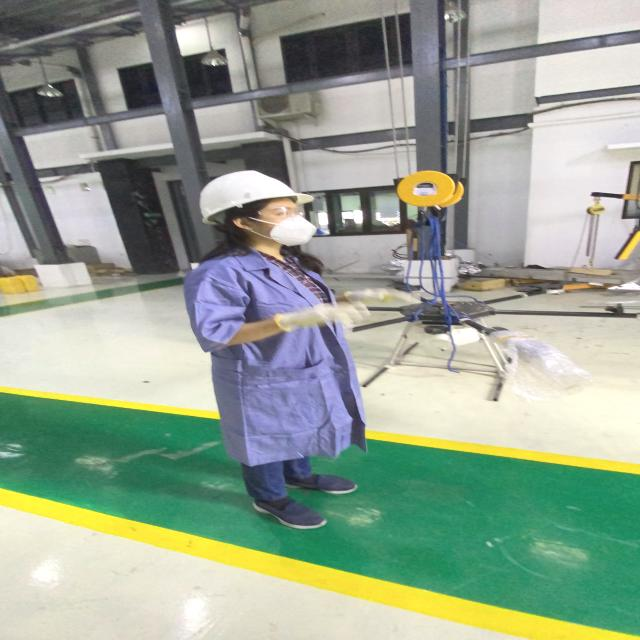face_mask: (251, 202, 320, 252)
glasses: (252, 205, 304, 220)
hand_glove: (279, 300, 372, 332), (335, 284, 417, 308)
head_helmet: (196, 168, 310, 218)
person: (168, 164, 404, 545)
shoes: (236, 484, 334, 533), (264, 468, 362, 498)
